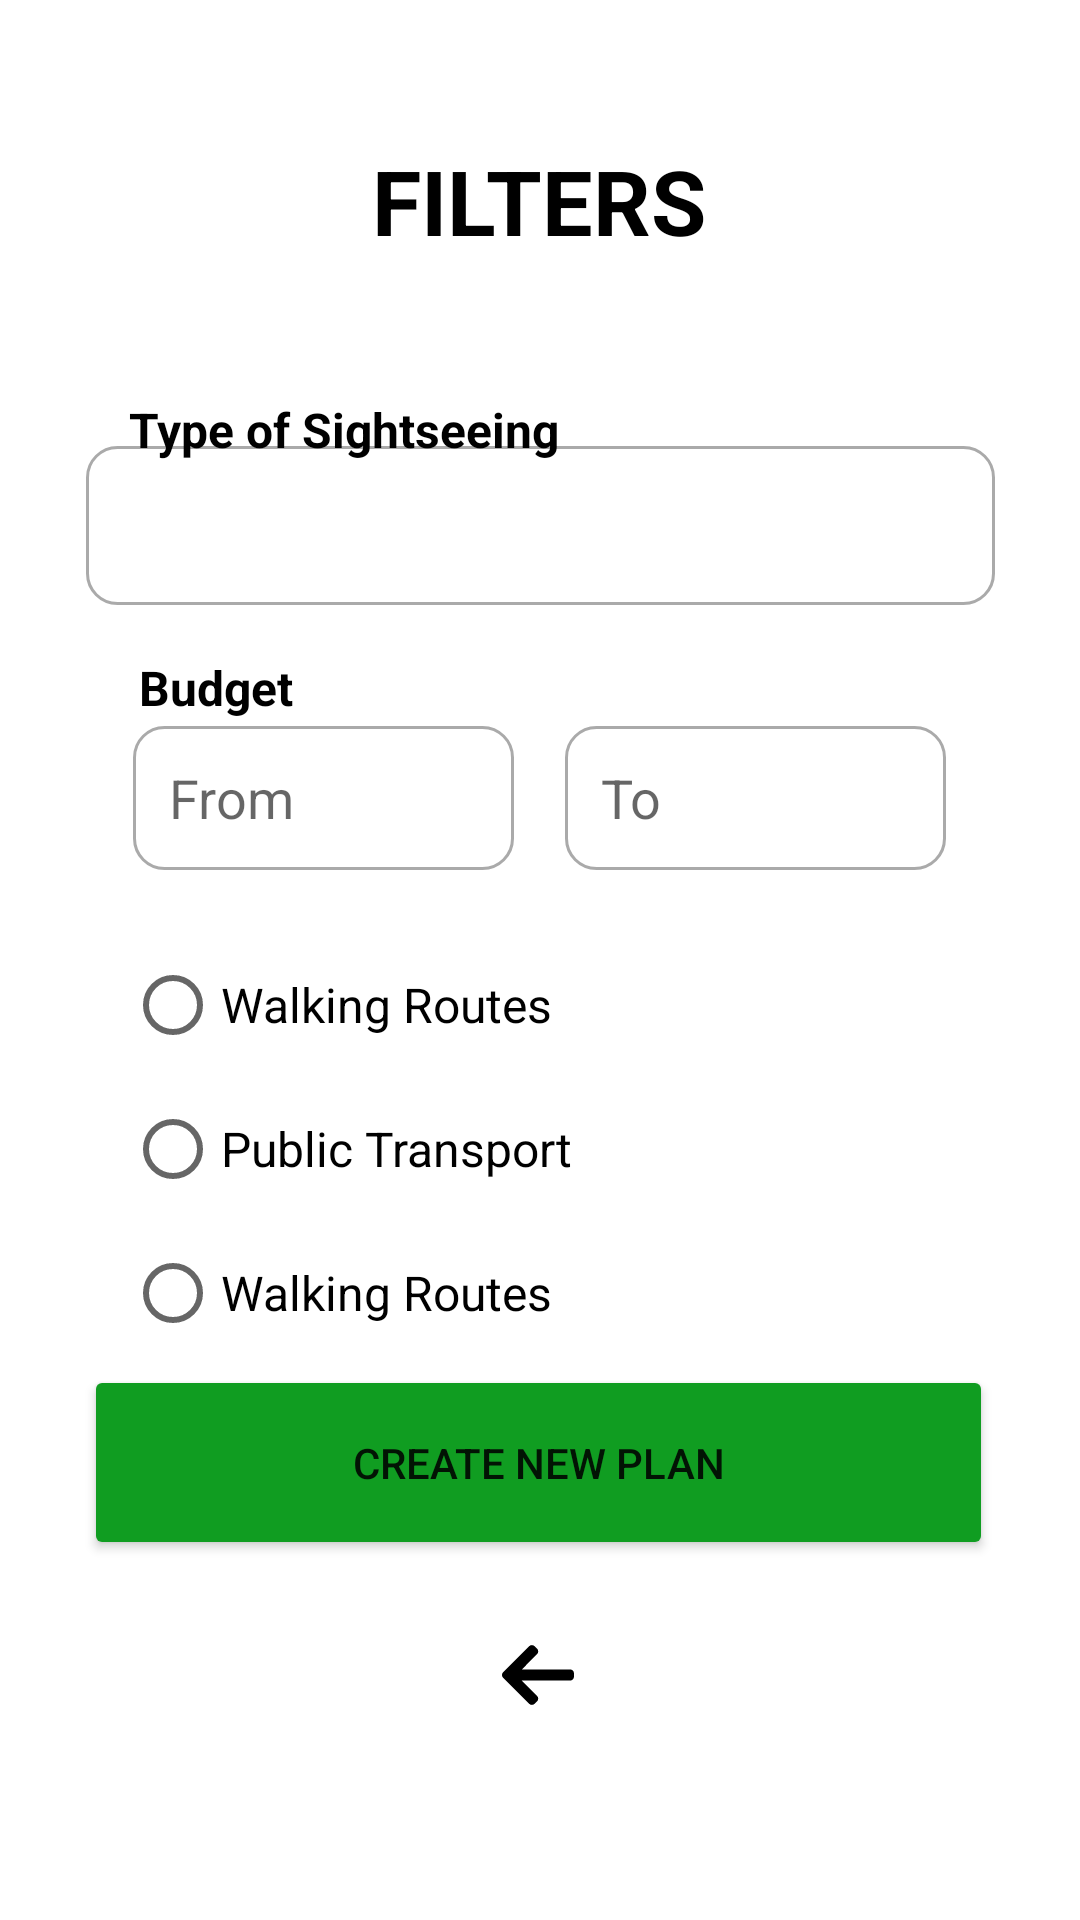

Icon click points for this 1080x1920 phone screenshot, format (x=x, y=y):
left arrow: (x=538, y=1675)
